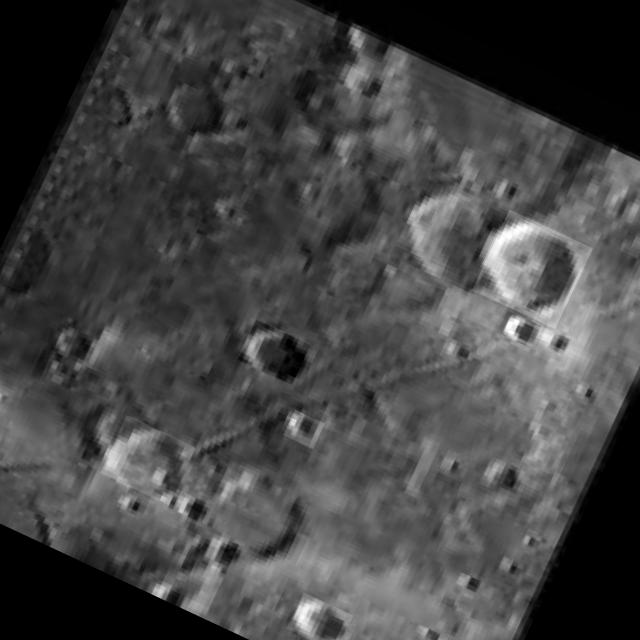crater: (390, 174, 538, 314), (472, 210, 592, 330), (100, 416, 195, 506), (238, 320, 311, 386), (286, 592, 353, 640), (284, 410, 324, 449), (504, 315, 540, 347)
